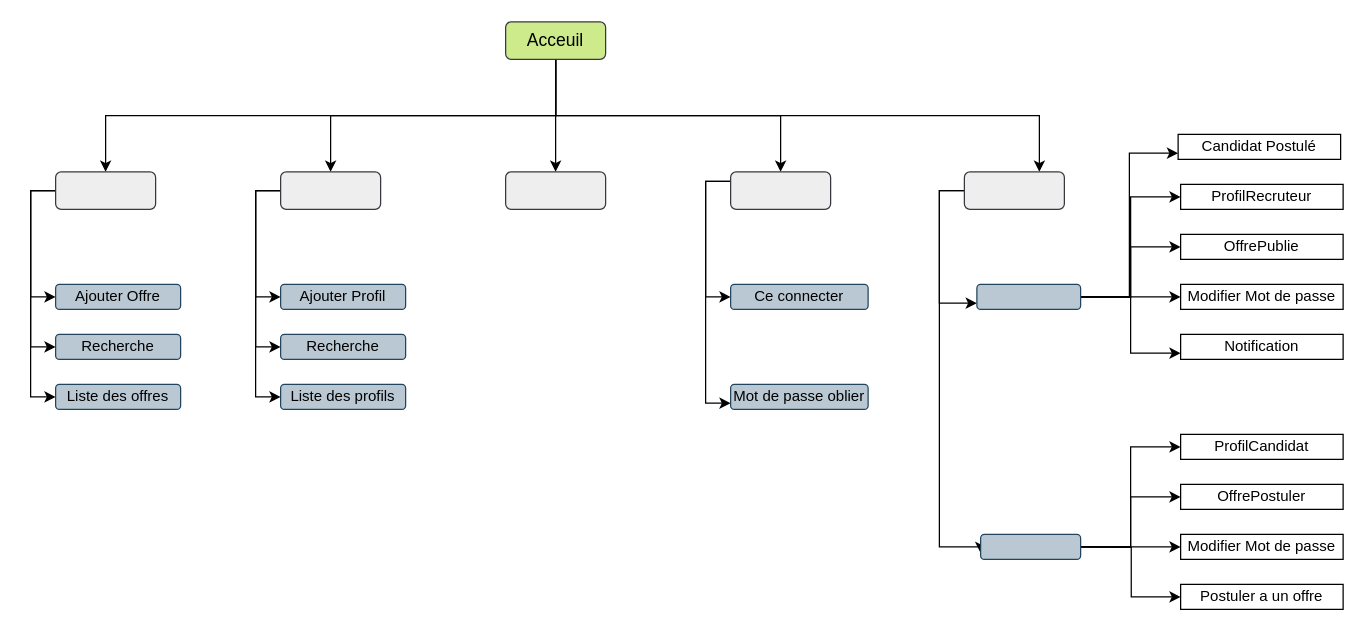
This 1365x631 diagram has some shape labels left out. Each missing label, with the centre of its shape:
Candidat: point (1030, 546)
Connexion: point (780, 190)
Contact: point (555, 190)
Inscription: point (1013, 190)
Offre: point (105, 190)
Profil: point (330, 190)
Recruteur: point (1028, 296)
